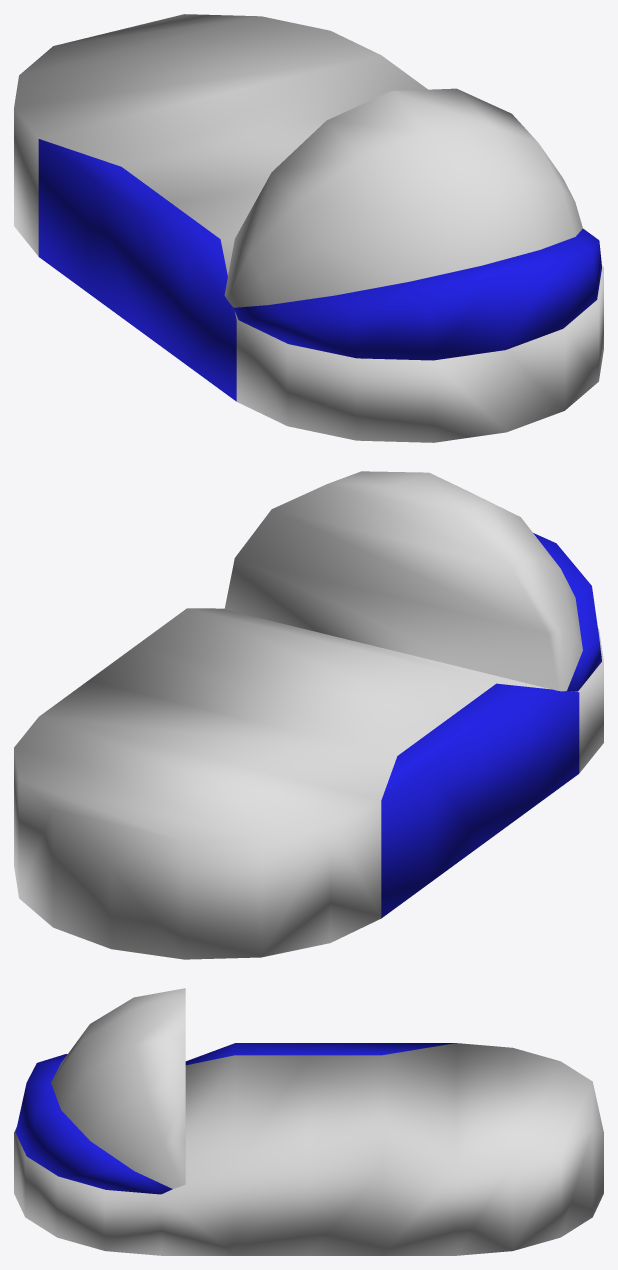
The model's file is rfoot.obj.
The picture shows the model from 3 angles, top to bottom: view 1: azimuth 30°, elevation 25°; view 2: azimuth 150°, elevation 25°; view 3: azimuth 270°, elevation 25°; orthographic projection. The views are drawn at different scales.
Visible parts, largest first — view 1: foot_Sphere.003; view 2: foot_Sphere.003; view 3: foot_Sphere.003.
Part boxes in pixels (x1=…): foot_Sphere.003: x1=14, y1=14, x2=603, y2=442; foot_Sphere.003: x1=14, y1=471, x2=603, y2=959; foot_Sphere.003: x1=14, y1=988, x2=603, y2=1255.
Bounding box in the file's own units: 0.088 × 0.0631 × 0.176.
